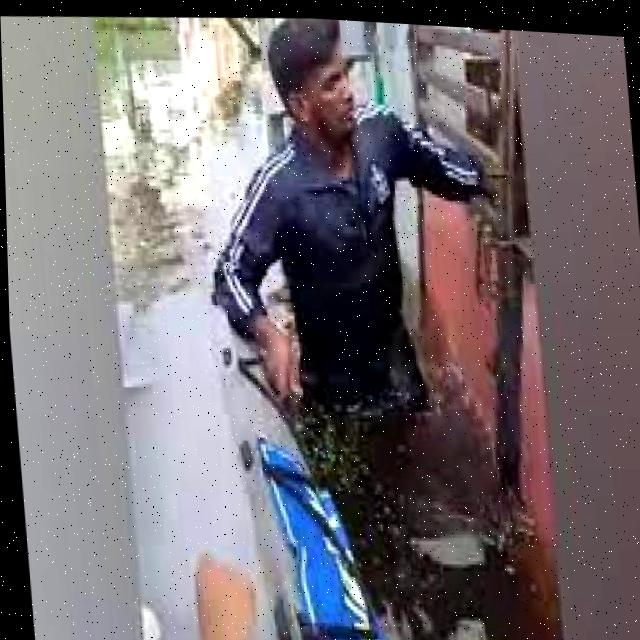civilian: (188, 11, 507, 422)
